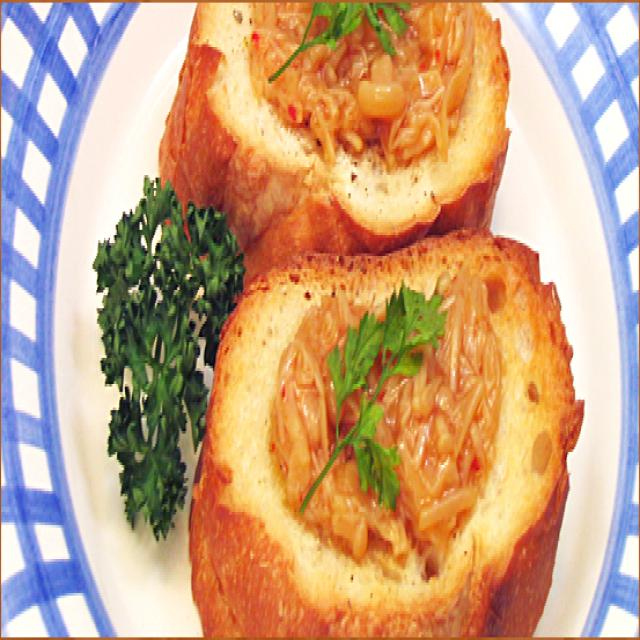面包点心: (156, 0, 588, 640)
